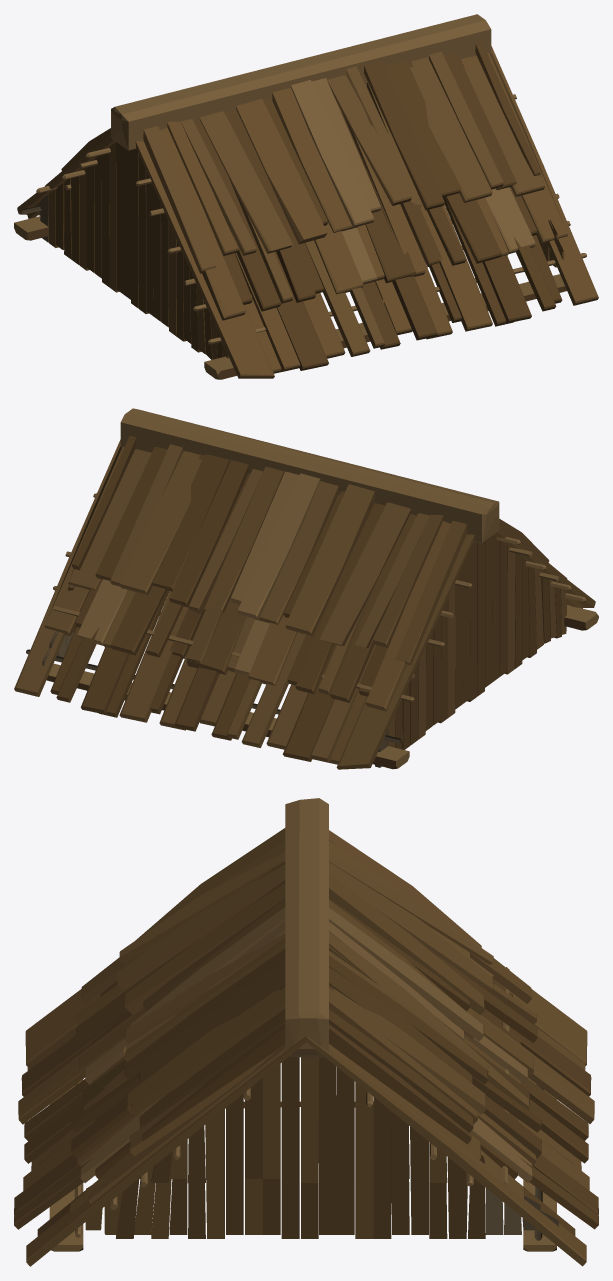
Rendered from EA03_Town_Ill_Roof_01a.fbx.
3 views of the same model, one above another, from view 1: azimuth 30°, elevation 25°; view 2: azimuth 150°, elevation 25°; view 3: azimuth 270°, elevation 25° (orthographic). The views are drawn at different scales.
Visible parts, largest first — view 1: EA03_Town_Ill_Roof_01a_LOD0; view 2: EA03_Town_Ill_Roof_01a_LOD0; view 3: EA03_Town_Ill_Roof_01a_LOD0.
Boxes of the visible parts, x1,y1,x2,y2 form: EA03_Town_Ill_Roof_01a_LOD0: (14,14,598,379); EA03_Town_Ill_Roof_01a_LOD0: (14,408,598,769); EA03_Town_Ill_Roof_01a_LOD0: (14,798,598,1266).
Size of what is drawn, in the model's own units: 9.29 by 4.79 by 9.87.
